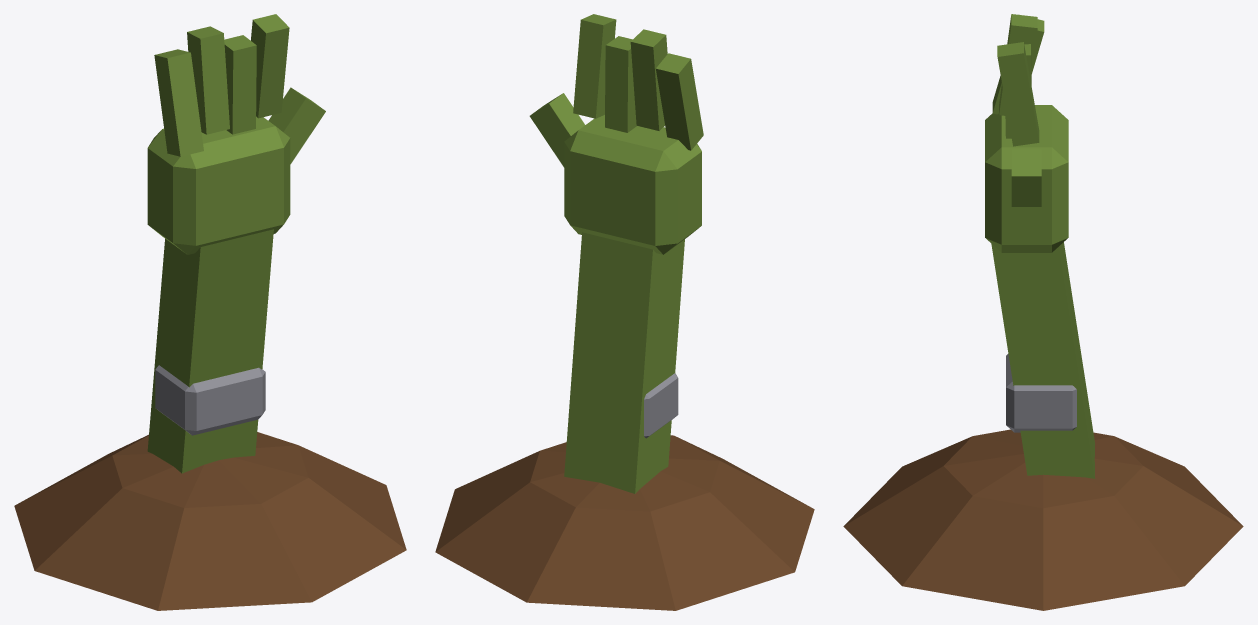
The model's file is ZombieHand.fbx.
3 views of the same model, side by side, from view 1: azimuth 30°, elevation 25°; view 2: azimuth 150°, elevation 25°; view 3: azimuth 270°, elevation 25° (orthographic). The views are drawn at different scales.
Parts seen in each view (by area): view 1: ZombieHand; view 2: ZombieHand; view 3: ZombieHand.
Boxes of the visible parts, x1=… form: ZombieHand: x1=14, y1=14, x2=406, y2=610; ZombieHand: x1=435, y1=14, x2=814, y2=610; ZombieHand: x1=843, y1=14, x2=1243, y2=610.
Size of the model in its own units: 2.4 by 3.31 by 2.4.
Materials: 1 (1 with a texture image).
